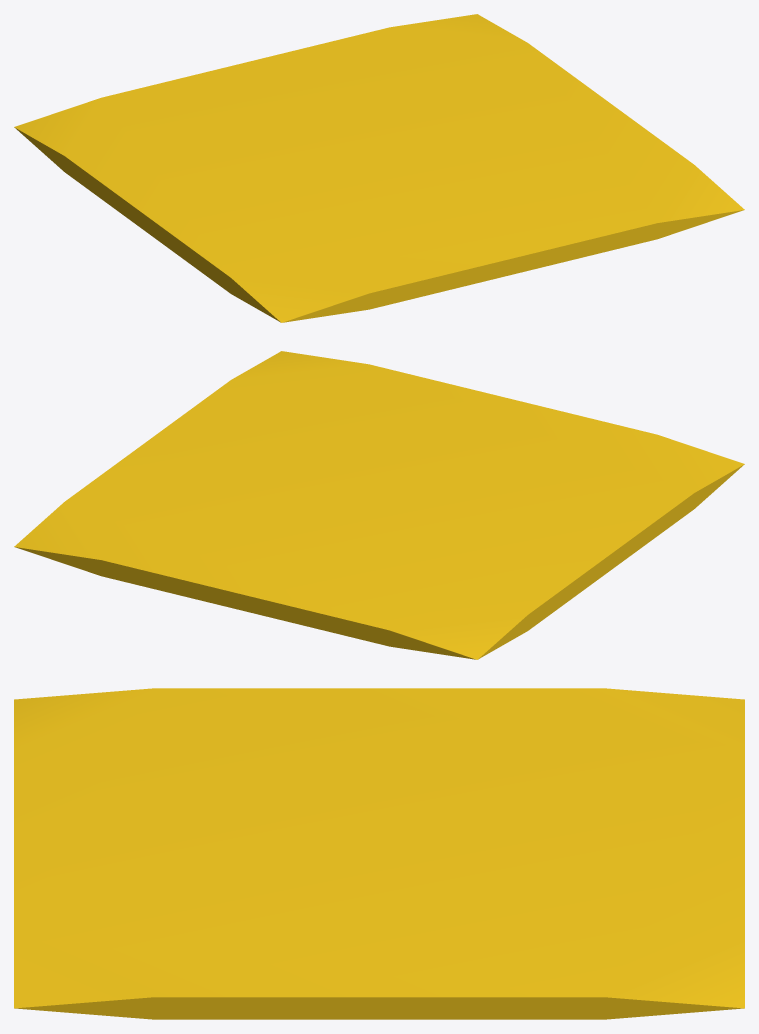
Rendered from feta_queso.glb.
3 renders of one model, top to bottom at view 1: azimuth 30°, elevation 25°; view 2: azimuth 150°, elevation 25°; view 3: azimuth 270°, elevation 25°, orthographic. The views are drawn at different scales.
Visible parts, largest first — view 1: feta_queso; view 2: feta_queso; view 3: feta_queso.
Boxes of the visible parts, <box> form: feta_queso: <box>14,14,744,322</box>; feta_queso: <box>14,351,744,659</box>; feta_queso: <box>14,688,744,1019</box>.
Size of the model in its own units: 0.09 by 0.003 by 0.09.
